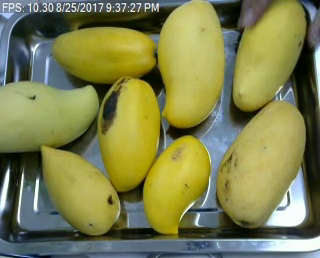Mango: (214, 100, 309, 234), (31, 140, 128, 240), (229, 5, 311, 117), (154, 0, 224, 128), (1, 72, 98, 158), (138, 129, 213, 238), (95, 73, 159, 194), (51, 25, 158, 88)
